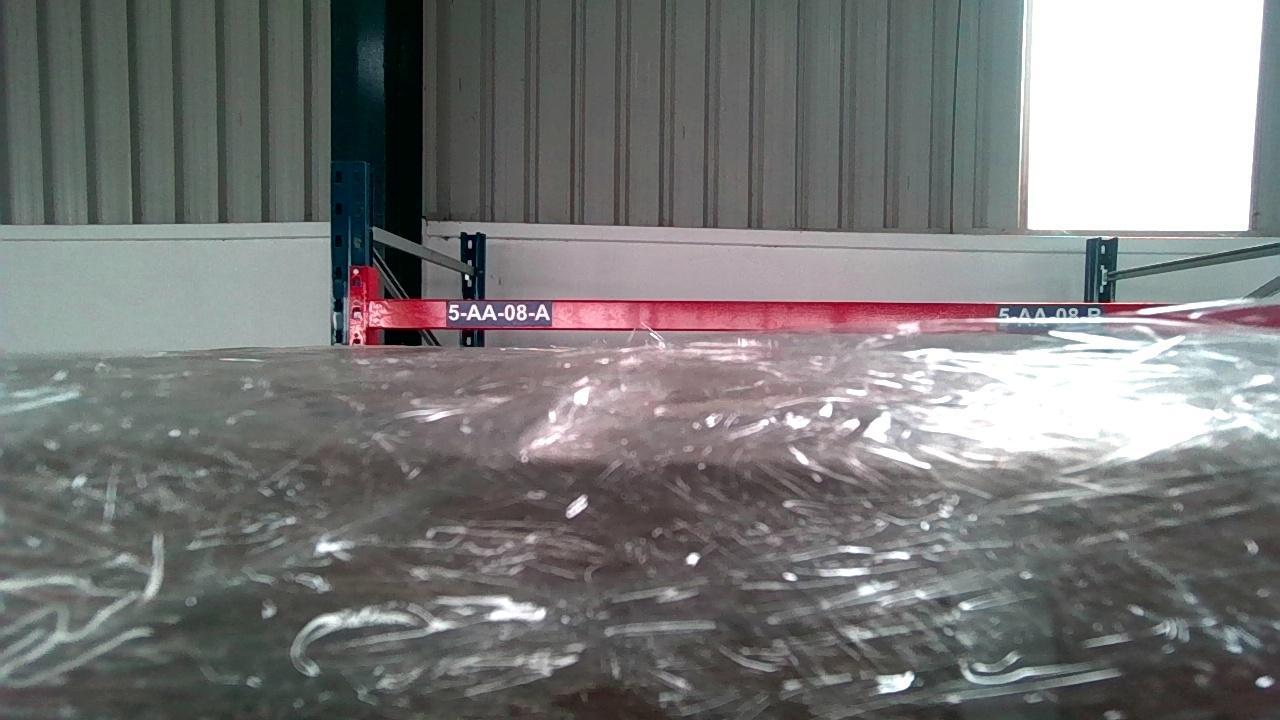h_rack: (373, 301, 1058, 336)
